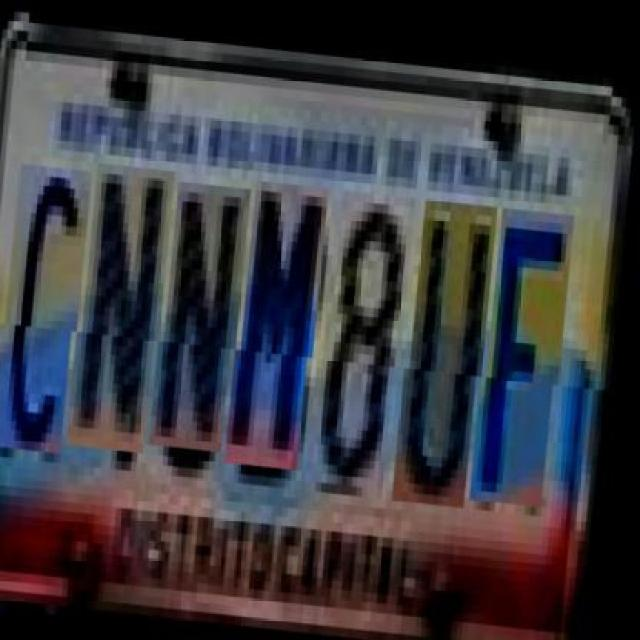8: (320, 182, 418, 480)
c: (1, 163, 96, 452)
f: (484, 195, 578, 494)
m: (238, 174, 332, 463)
n: (80, 160, 178, 449), (163, 177, 254, 448)
u: (406, 189, 500, 496)
